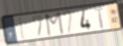4: (79, 8, 93, 33)
7: (31, 14, 44, 38), (62, 10, 74, 35)
I: (17, 16, 27, 41)
M: (45, 11, 65, 38)
T: (92, 6, 105, 30)
